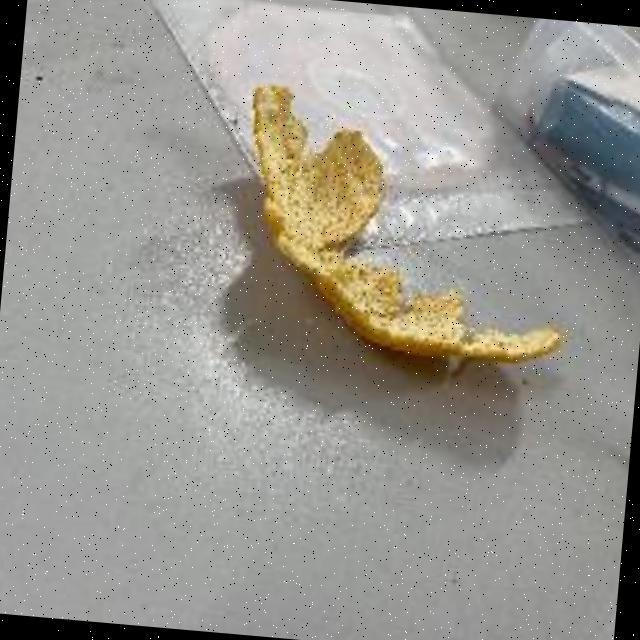orange-peel: (226, 78, 584, 384)
